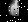person: (6, 1, 19, 17)
